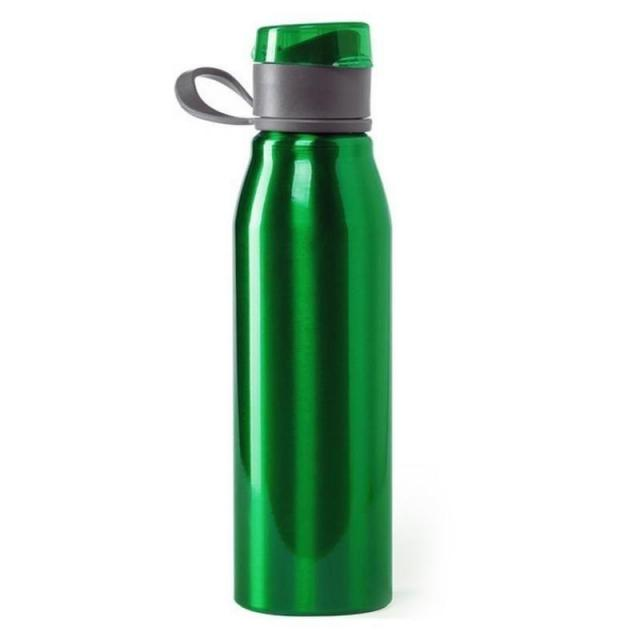gym bottle: (228, 15, 398, 619)
